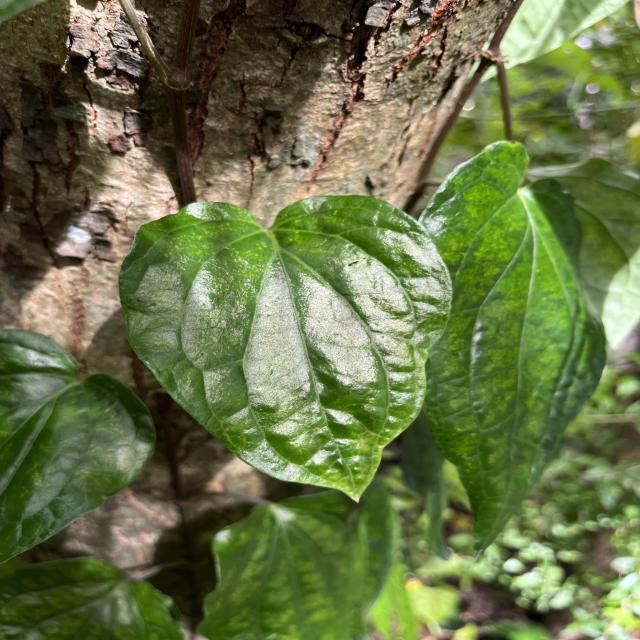Piper betle: (113, 188, 457, 506)
